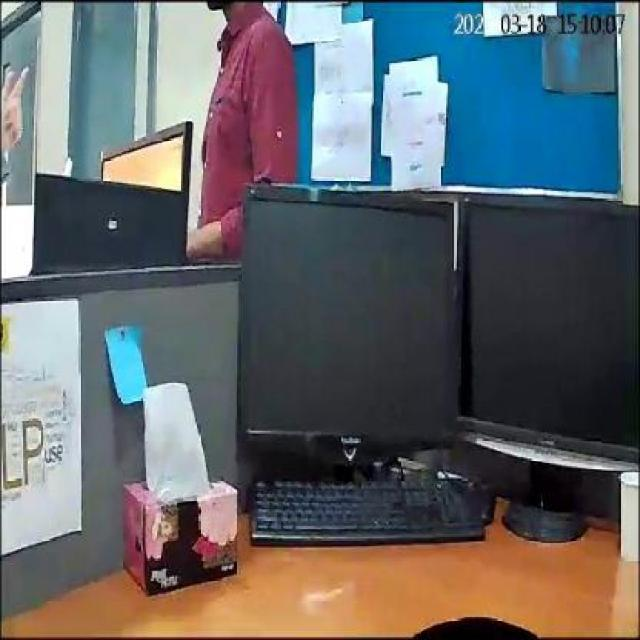spill: (414, 612, 538, 634)
